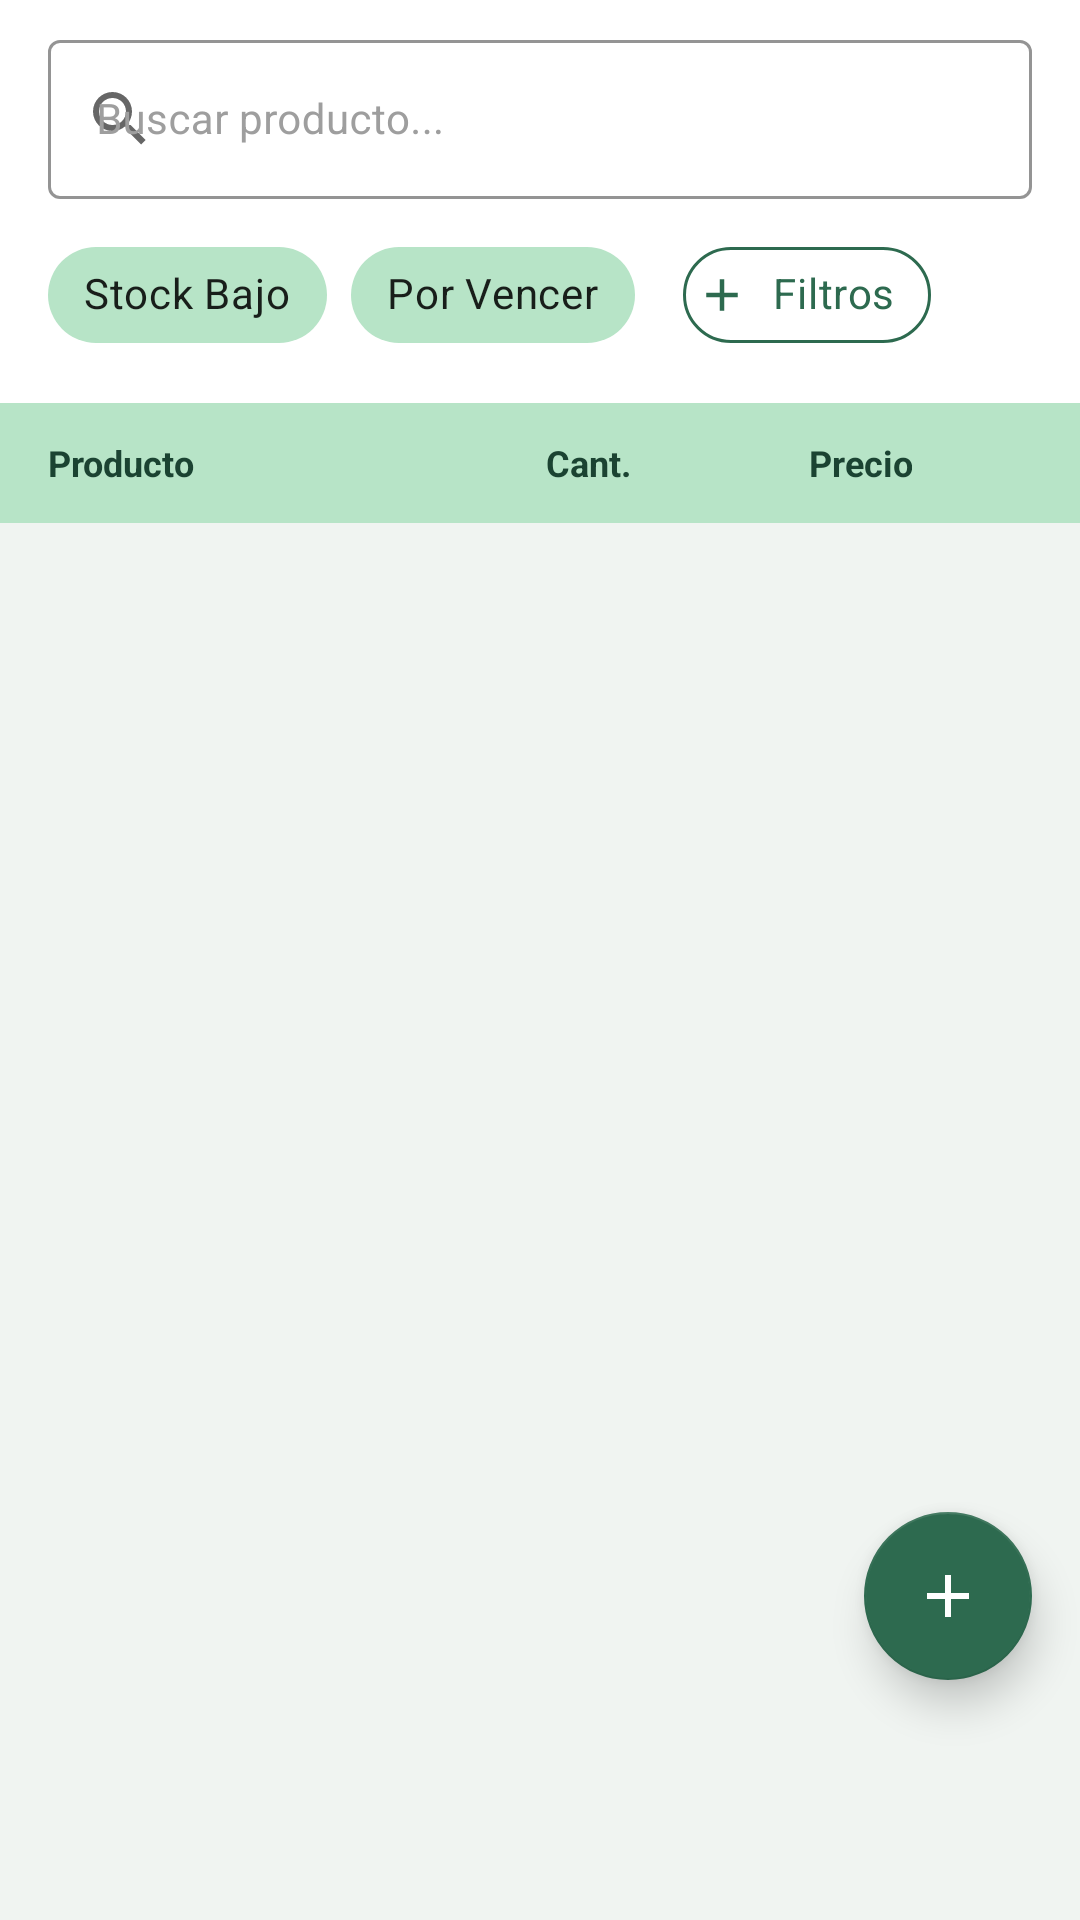

Icons on this 1080w x 1920h Android screen, each with its box as (left=x1, top=y1, right=x2, bottom=y2):
Añadir Producto: (left=864, top=1512, right=1032, bottom=1680)
